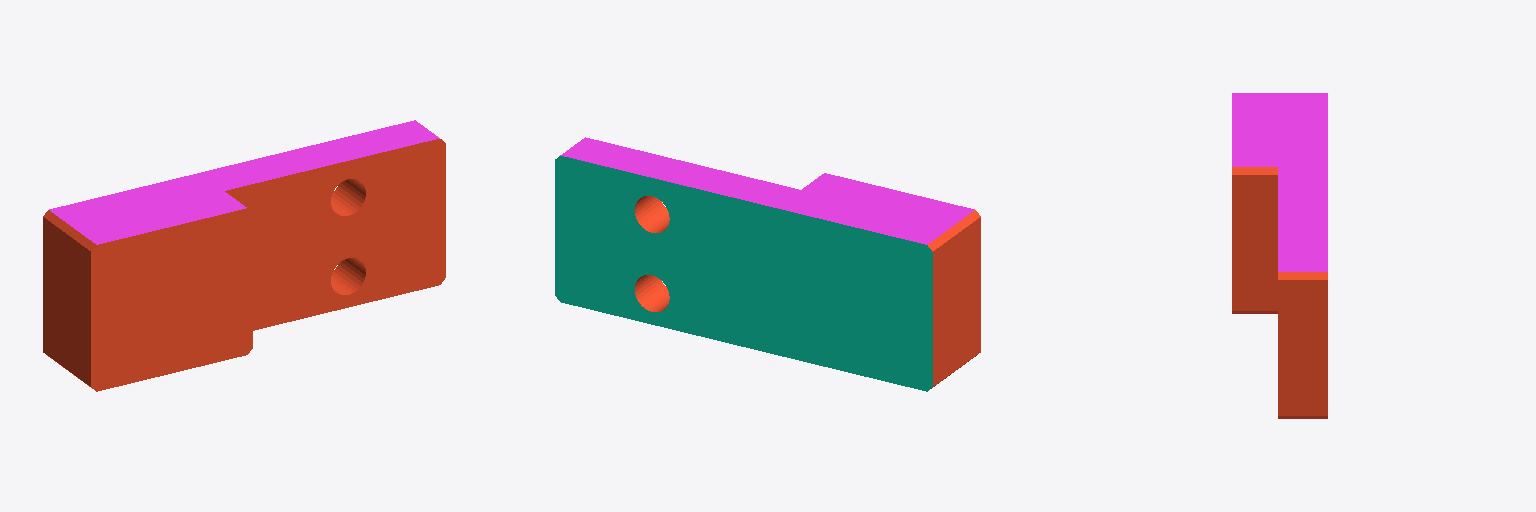
The picture shows the model from 3 angles: view 1: azimuth 30°, elevation 25°; view 2: azimuth 150°, elevation 25°; view 3: azimuth 270°, elevation 25°; orthographic projection.
Visible parts, largest first — view 1: NONE_DC_Shell; view 2: NONE_DC_Shell; view 3: NONE_DC_Shell.
Part boxes in pixels (bbox=[...]): NONE_DC_Shell: bbox=[43, 120, 445, 391]; NONE_DC_Shell: bbox=[555, 137, 980, 391]; NONE_DC_Shell: bbox=[1232, 93, 1327, 418].
Bounding box in the file's own units: 70 × 26 × 15.5.